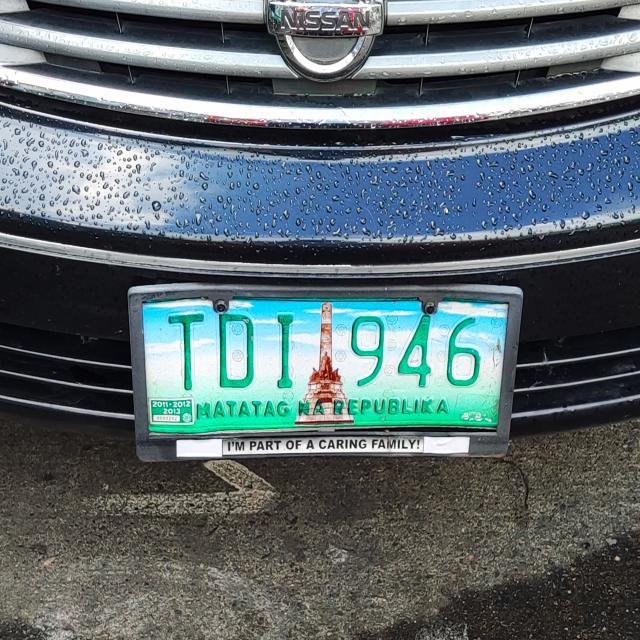plate: (119, 270, 530, 470)
